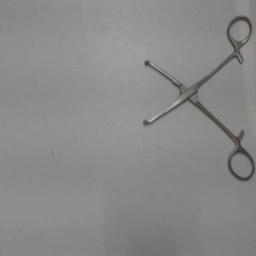Allis Tissue Forceps: (140, 11, 256, 183)
